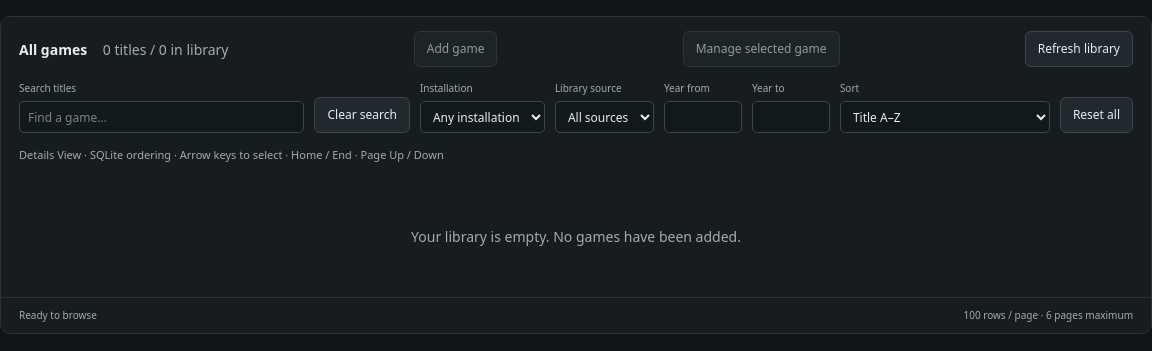
Test: Details View › renders empty and persistent initialization failures distinctly
The image size is (1152, 351).
Check: the text "Your library is empty. No games have been added." is shown, box [411, 226, 741, 246]
Click the button "Refresh library": point(1079, 49) [1025, 31, 1133, 67]
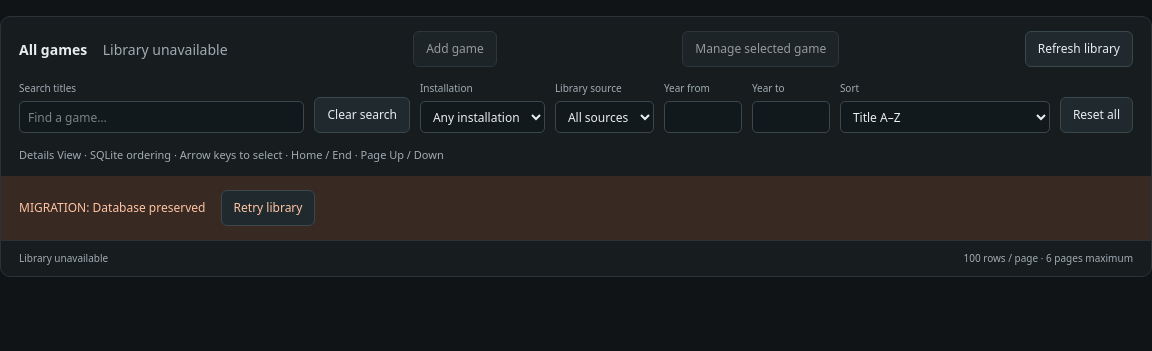
Check: the message "MIGRATION: Database preserved Retry library" is shown, box [1, 176, 1151, 240]
Check: the text "Your library is empty" is gone
